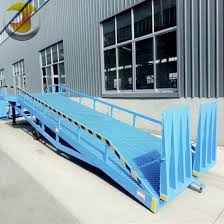Yard Ramp: (8, 82, 224, 217)
